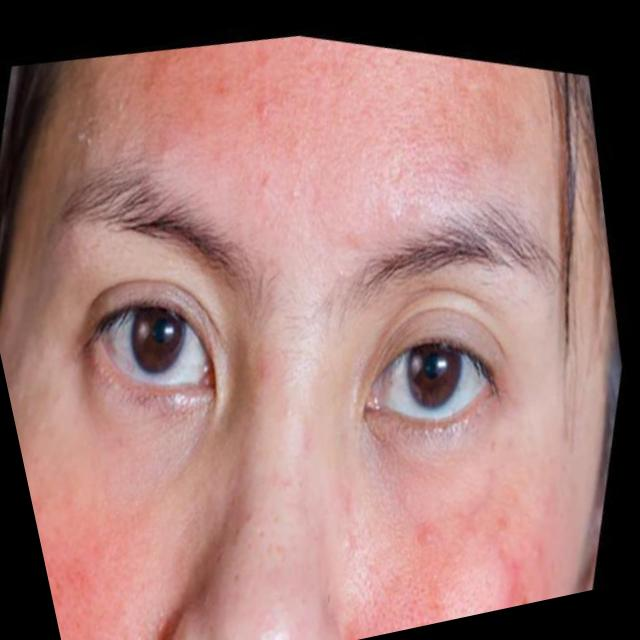redness: (136, 44, 536, 210), (352, 486, 555, 634), (32, 482, 159, 640)
